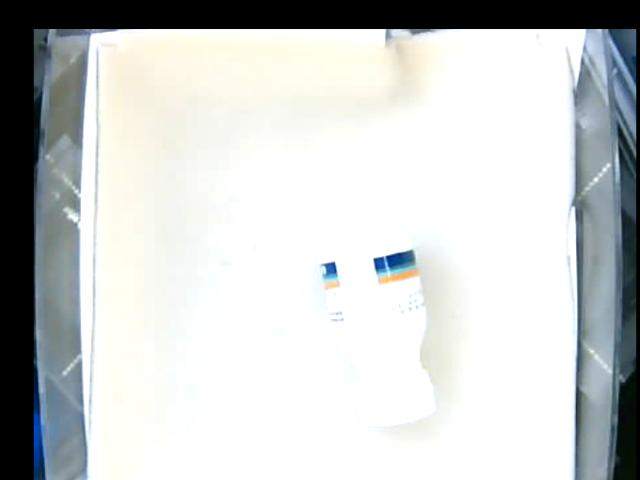Bottle: (318, 230, 430, 428)
